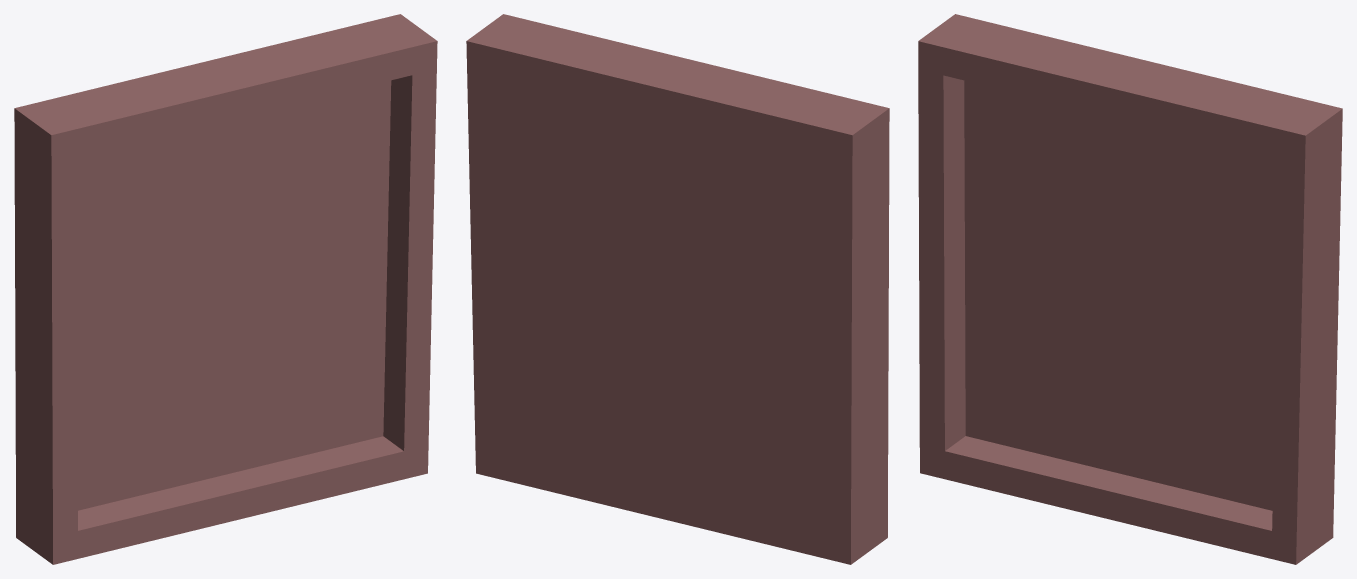
The model's file is Painting_3.fbx.
3 views of the same model, side by side, from view 1: azimuth 30°, elevation 25°; view 2: azimuth 150°, elevation 25°; view 3: azimuth 330°, elevation 25° (orthographic).
Parts seen in each view (by area): view 1: Painting_3; view 2: Painting_3; view 3: Painting_3.
Boxes of the visible parts, x1,y1,x2,y2 form: Painting_3: (14, 14, 437, 564); Painting_3: (466, 14, 889, 564); Painting_3: (918, 14, 1342, 564).
Bounding box in the file's own units: 7.47 × 7.95 × 1.24.
